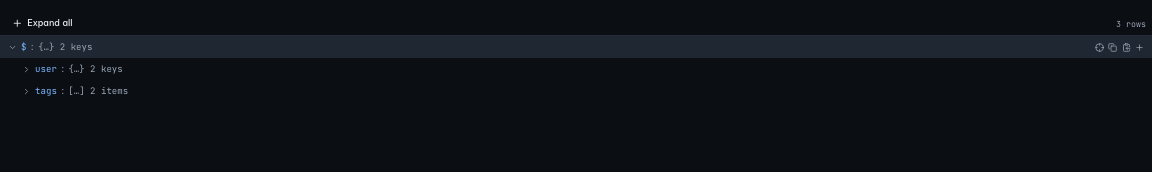
TreeView › expands and collapses a branch
What coordinates should you click on to do the following:
click the button named "Expand" next to "user"
I would click on:
 (26, 69)
Its box is left=20, top=63, right=32, bottom=75.
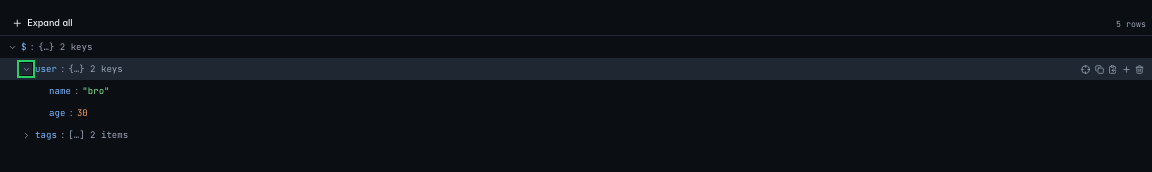
Expected: the text "name" is shown, left=49, top=85, right=71, bottom=98
# The root is expanded too, so target the branch we just opened.
What coordinates should you click on to do the following:
click the button named "Collapse" next to "user"
I would click on:
 (26, 69)
Its box is left=20, top=63, right=32, bottom=75.
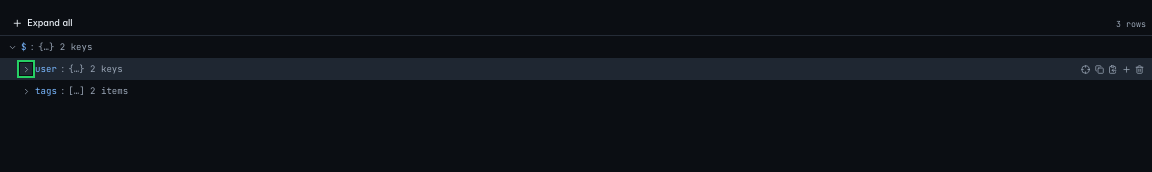
Expected: the text "name" is gone
